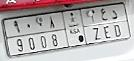0: (26, 24, 36, 51), (38, 22, 48, 49)
8: (49, 17, 59, 47)
9: (13, 21, 23, 52)
D: (111, 10, 121, 38)
E: (101, 8, 111, 39)
Z: (87, 10, 101, 40)
